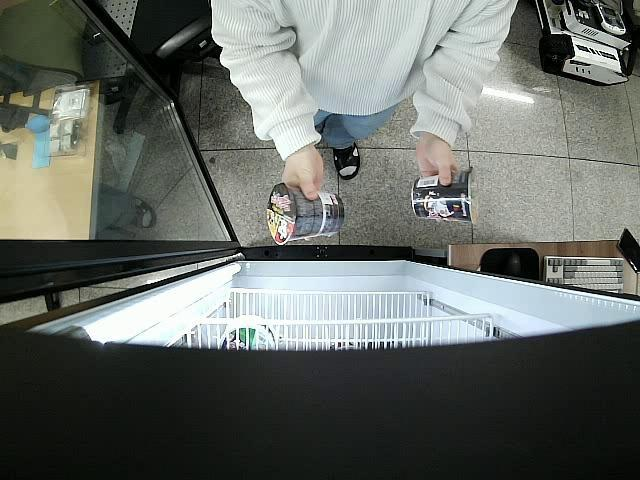08_buldak_S: (266, 181, 346, 245), (410, 166, 479, 225)
